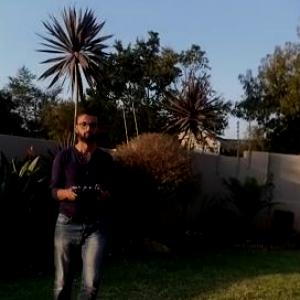follow: (44, 109, 120, 299)
